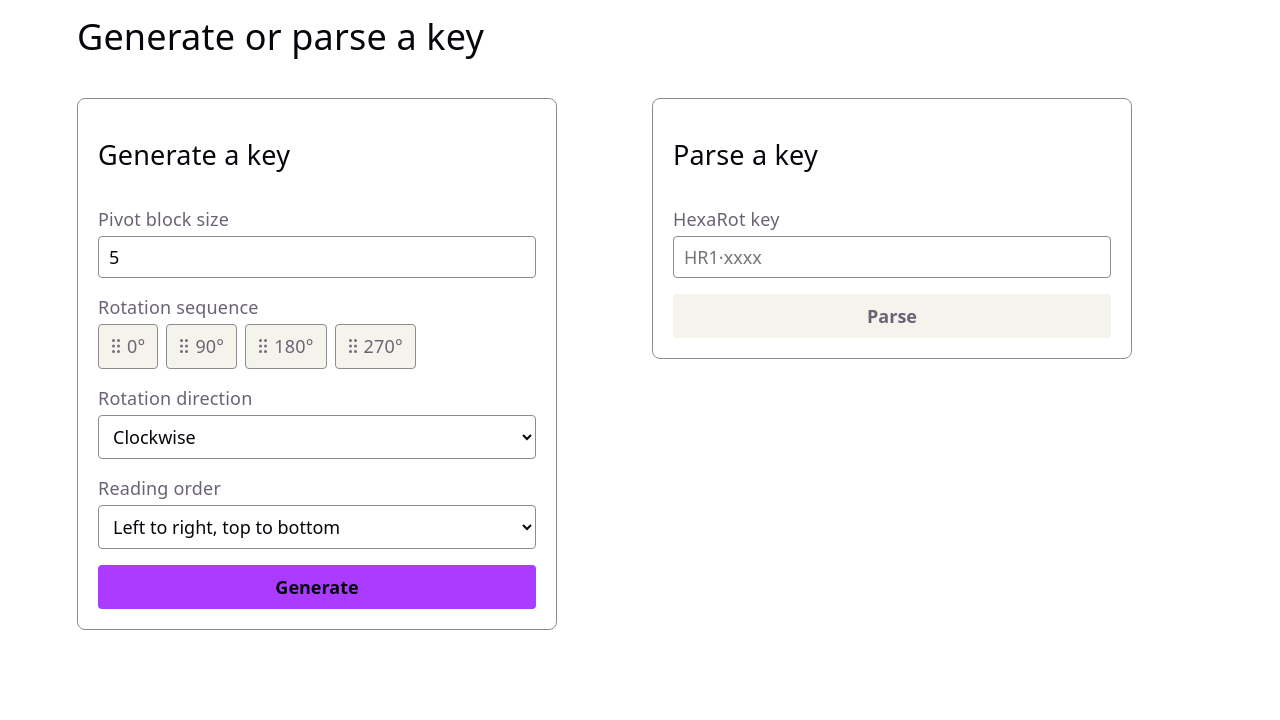
Test case: KeyView › key parser section › displays a clear error message when the API returns 400
Type "HR9·zzzz" into the field labelled "HexaRot key".
click(892, 257); type("HR9·zzzz")  # box [673, 236, 1111, 278]
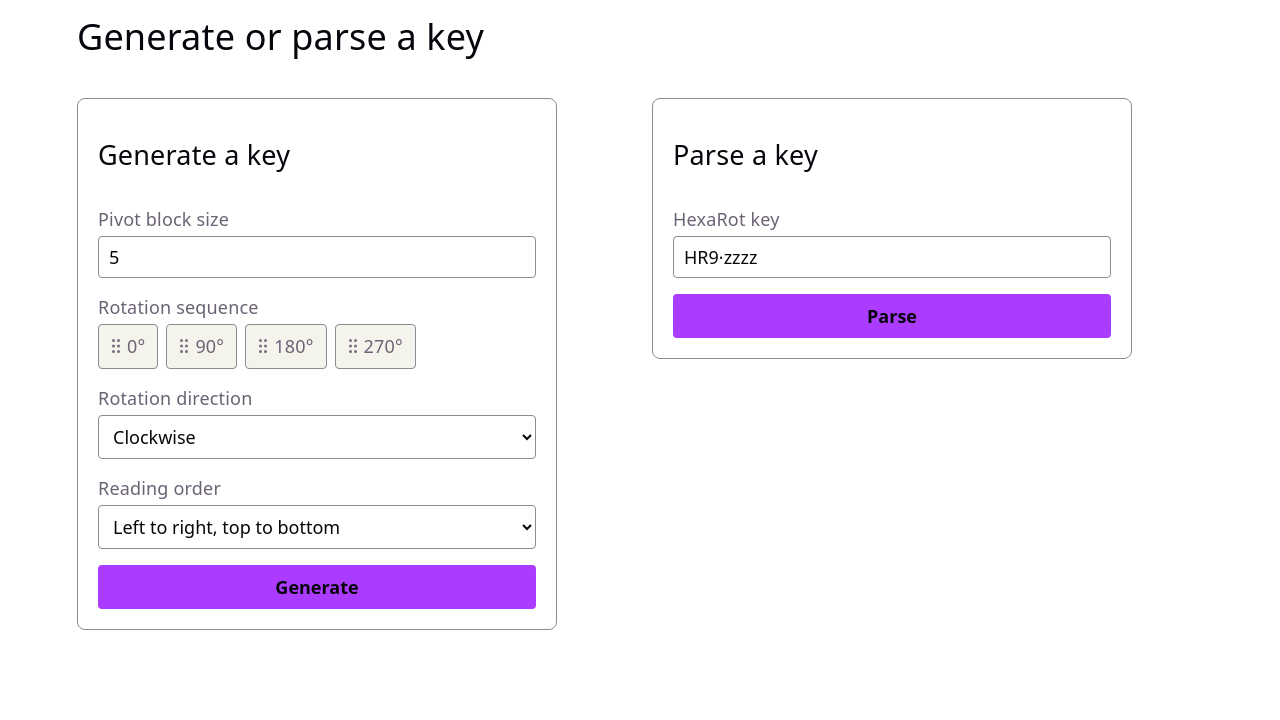
Submit the form with class "key-parser-form", box [652, 98, 1132, 359]
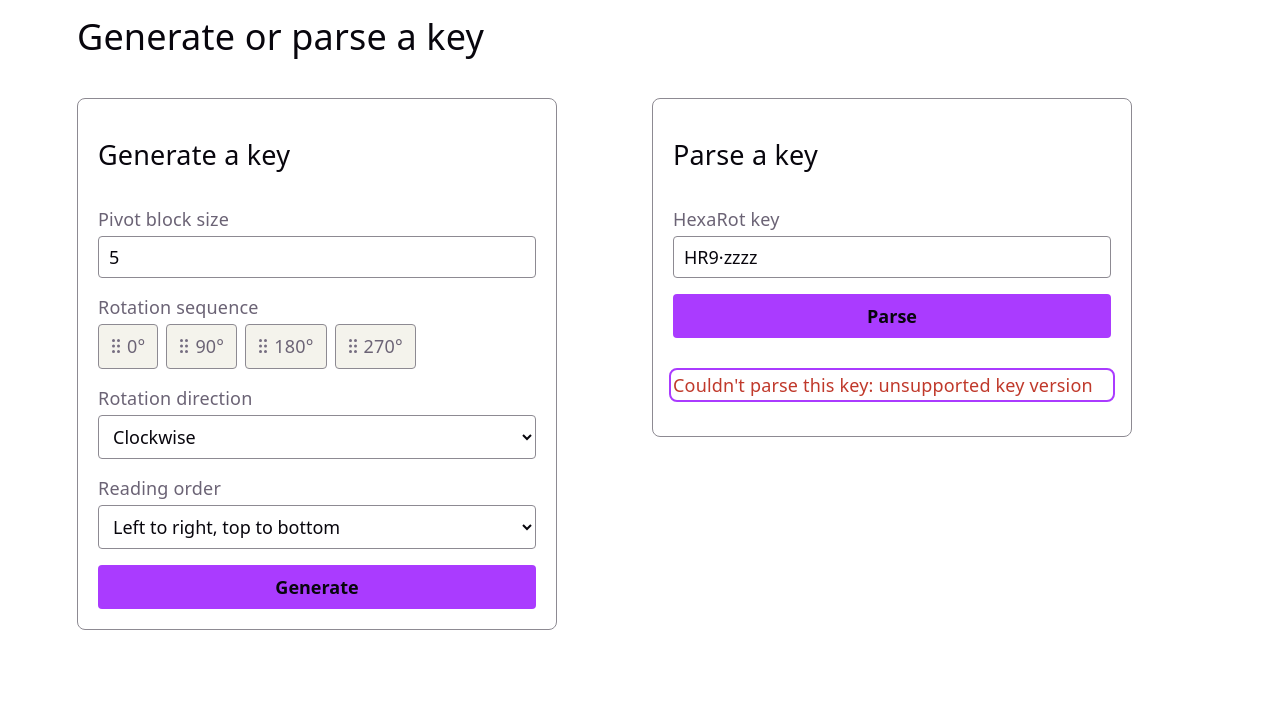
Now the text "unsupported key version" is shown, box [673, 373, 1093, 397]
